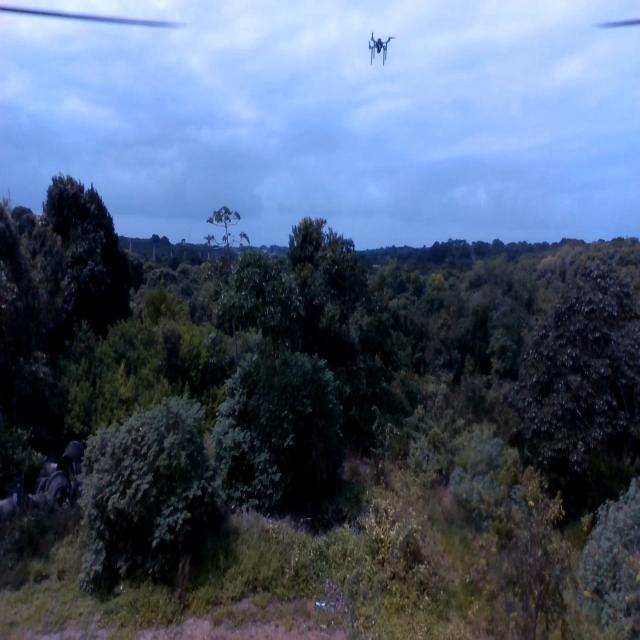-uav-: (360, 24, 398, 76)
